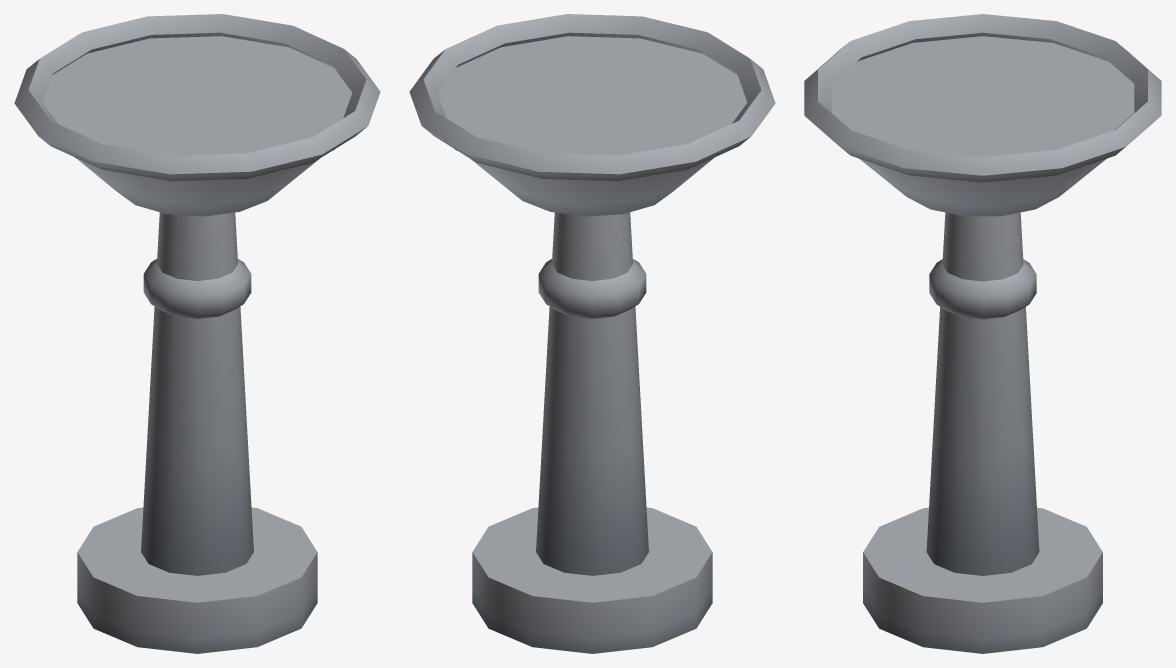
Rendered from ck_bird_bath.fbx.
The picture shows the model from 3 angles, left to right: view 1: azimuth 30°, elevation 25°; view 2: azimuth 150°, elevation 25°; view 3: azimuth 270°, elevation 25°; orthographic projection.
Parts seen in each view (by area): view 1: ck_bird_bath; view 2: ck_bird_bath; view 3: ck_bird_bath.
Part boxes in pixels (x1,y1,x2,y2): ck_bird_bath: (14, 14, 380, 653); ck_bird_bath: (409, 14, 775, 653); ck_bird_bath: (804, 14, 1161, 653).
Size of the model in its own units: 167 by 260 by 163.
